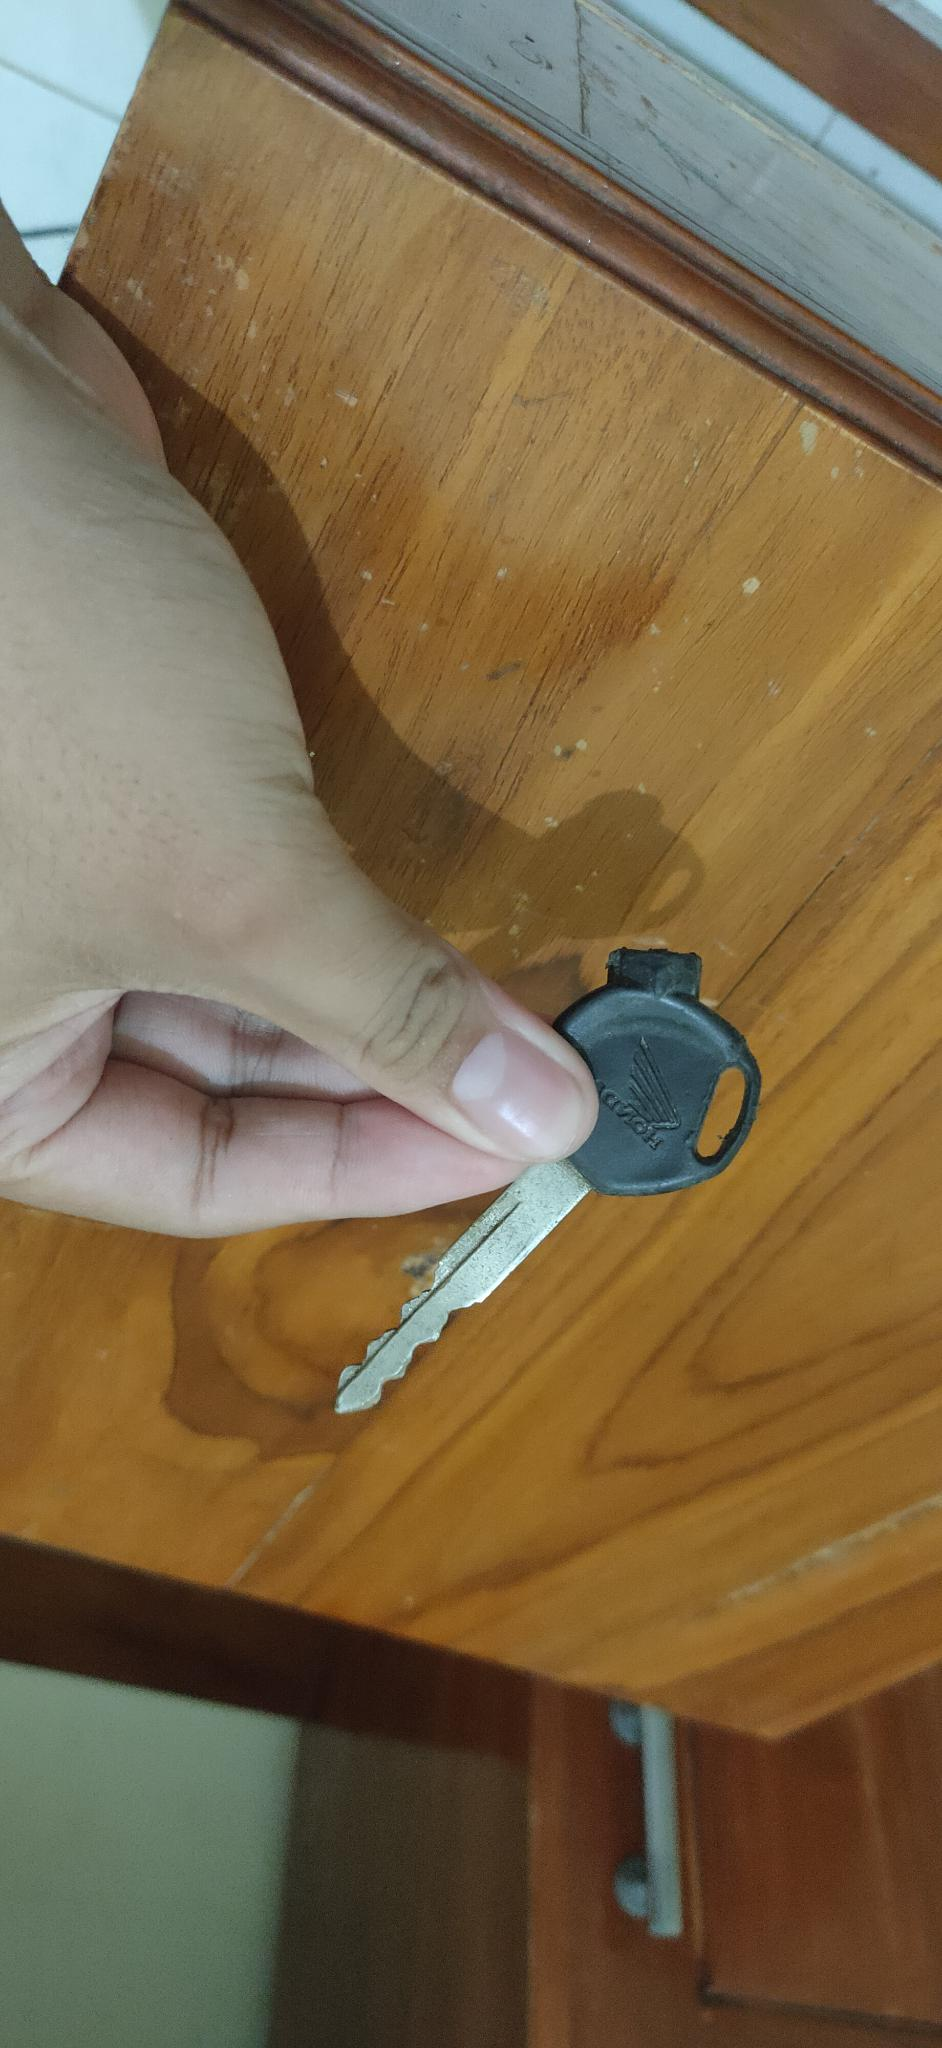keys: (310, 917, 779, 1459)
